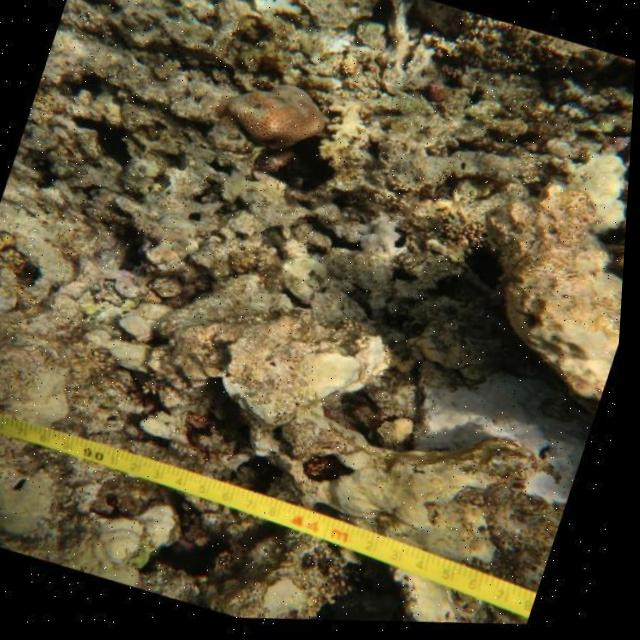Dead Coral: (214, 80, 344, 152)
